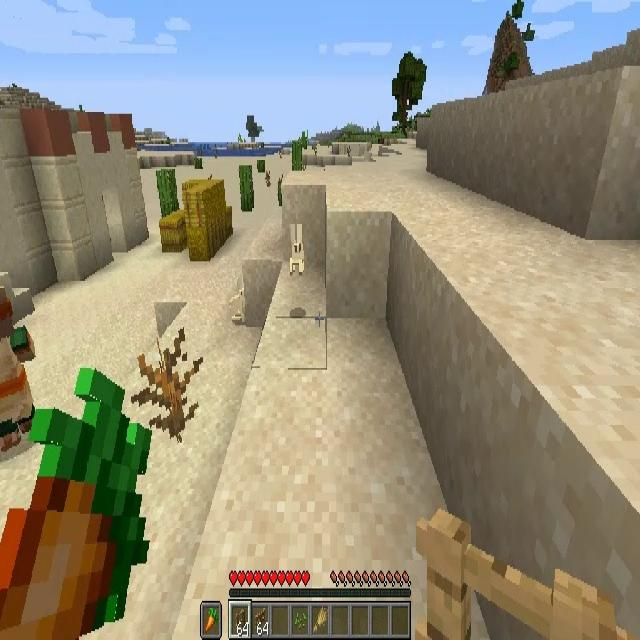people: (0, 288, 38, 450)
rabbit: (228, 271, 248, 320), (287, 226, 304, 276)
